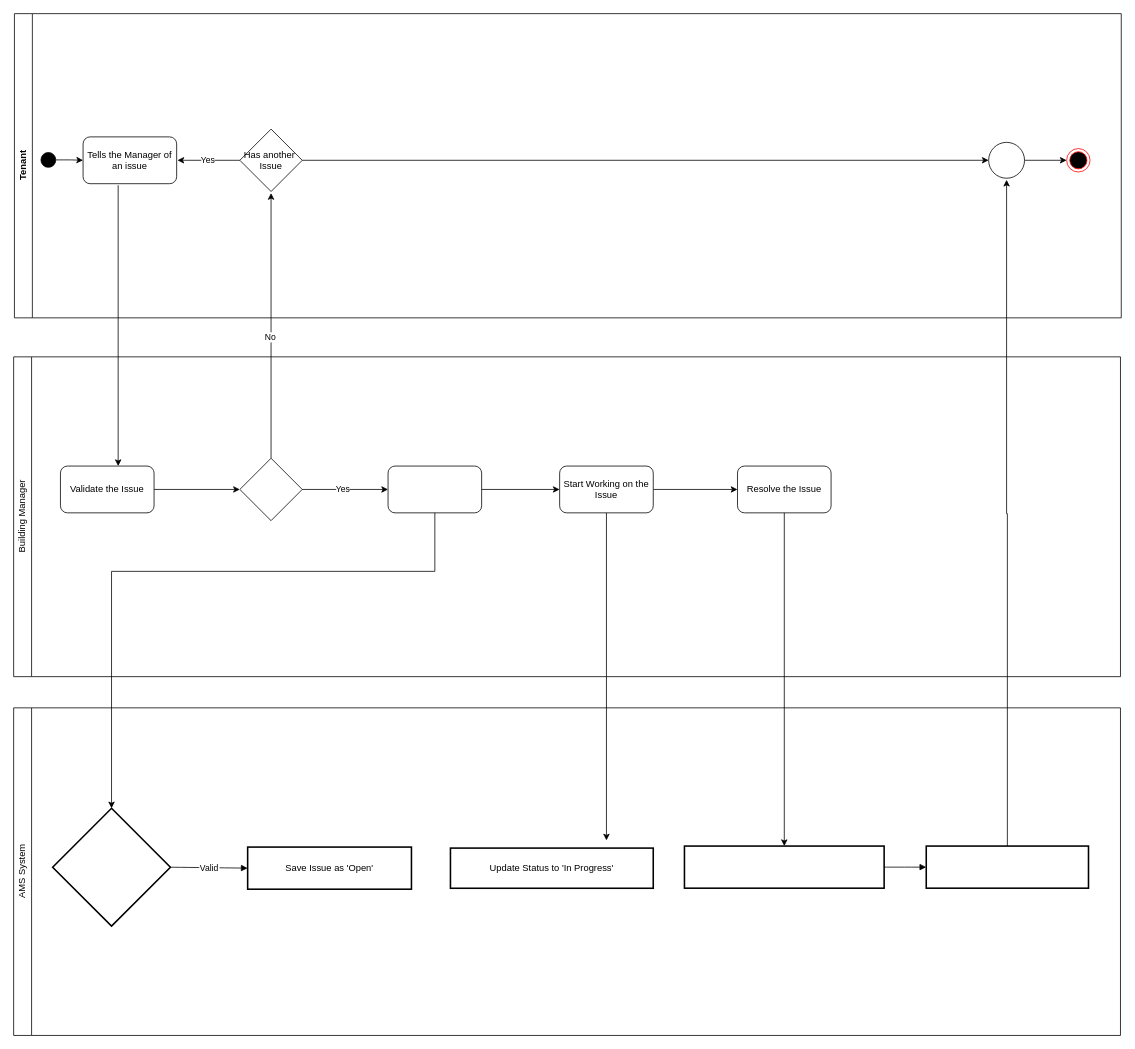
Image size: 1135x1049. Some labels were removed from this diagram. The shapes that lost their labels are listed below. From the top down, each one's centre as x and y in pixels, then its label:
(270,489): Issue Valid?
(434,489): Log the Issue
(111,866): Validate Input
(784,867): Update Status to 'Resolved'
(1007,867): Display Confirmation
